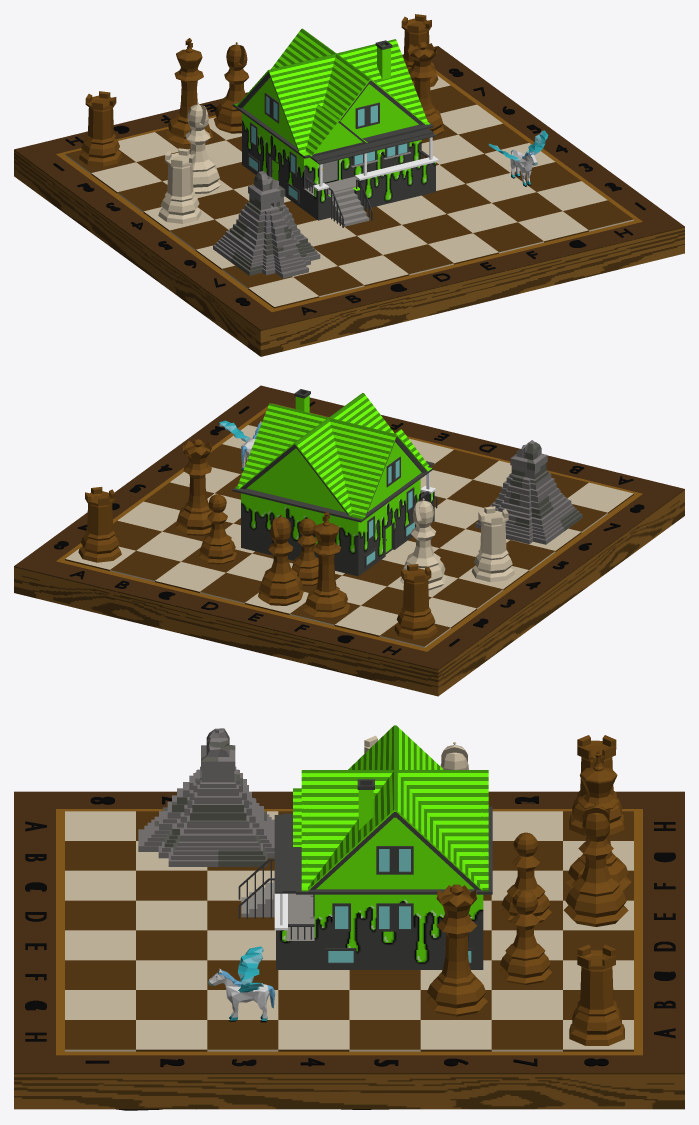
3 renders of one model, top to bottom at view 1: azimuth 30°, elevation 25°; view 2: azimuth 150°, elevation 25°; view 3: azimuth 270°, elevation 25°, orthographic. The views are drawn at different scales.
Visible parts, largest first — view 1: Cube.002, Cube.754, OBJRANDOM_GRAN_JAGUAR, ANIMAL_PEGASO; view 2: Cube.002, Cube.754, OBJRANDOM_GRAN_JAGUAR, ANIMAL_PEGASO; view 3: Cube.002, Cube.754, OBJRANDOM_GRAN_JAGUAR, ANIMAL_PEGASO.
Part boxes in pixels (x1,y1,x2,y2): Cube.002: [14, 14, 684, 356]; Cube.754: [232, 28, 438, 227]; OBJRANDOM_GRAN_JAGUAR: [213, 171, 320, 278]; ANIMAL_PEGASO: [488, 130, 548, 186]; Cube.002: [14, 385, 684, 696]; Cube.754: [232, 389, 437, 576]; OBJRANDOM_GRAN_JAGUAR: [475, 440, 582, 544]; ANIMAL_PEGASO: [219, 420, 261, 470]; Cube.002: [14, 735, 684, 1109]; Cube.754: [238, 725, 492, 969]; OBJRANDOM_GRAN_JAGUAR: [138, 728, 274, 866]; ANIMAL_PEGASO: [208, 946, 275, 1022].
Bounding box in the file's own units: 3981 × 1457 × 4012.
Materials: 25 (3 with a texture image).
